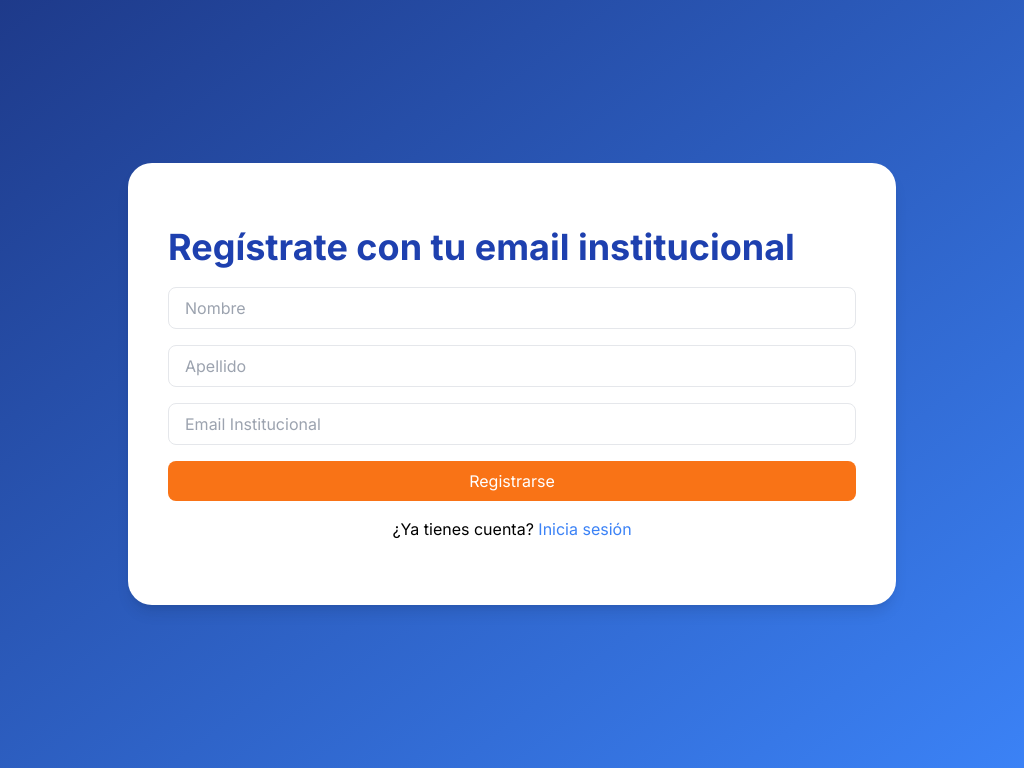
Register.jsx › muestra error si los campos están vacíos
The image size is (1024, 768).
Click the button "Registrarse" at (512, 481), box [168, 461, 856, 501]
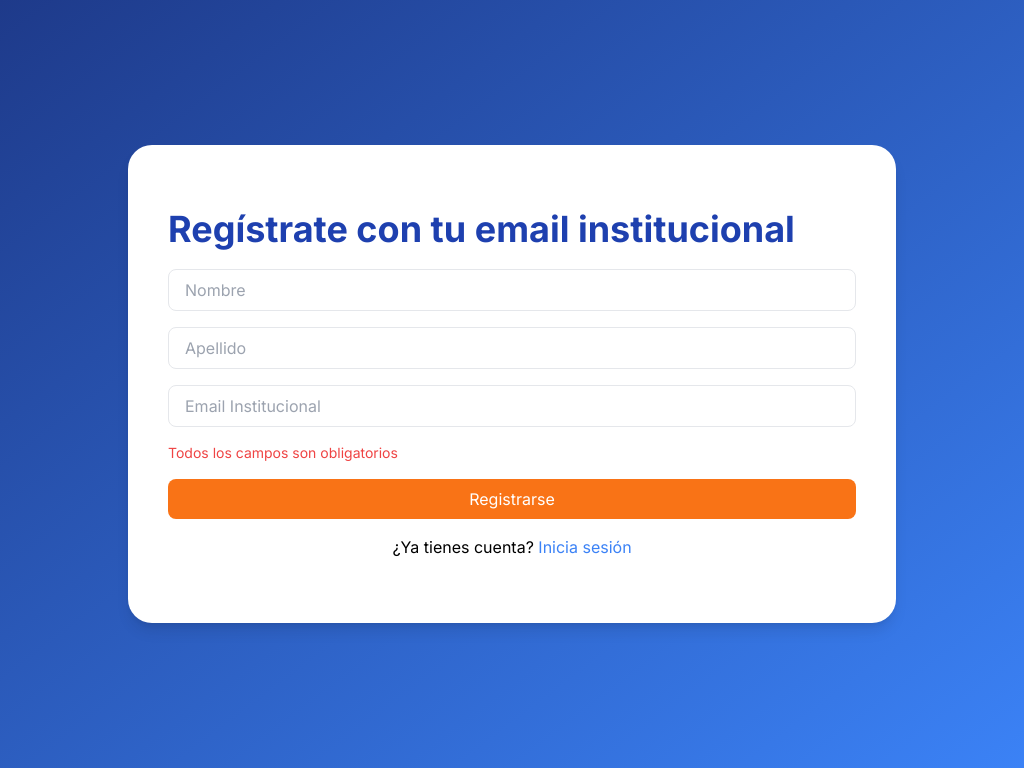
expect the text "Todos los campos son obligatorios" is shown: met, box [168, 444, 398, 461]
